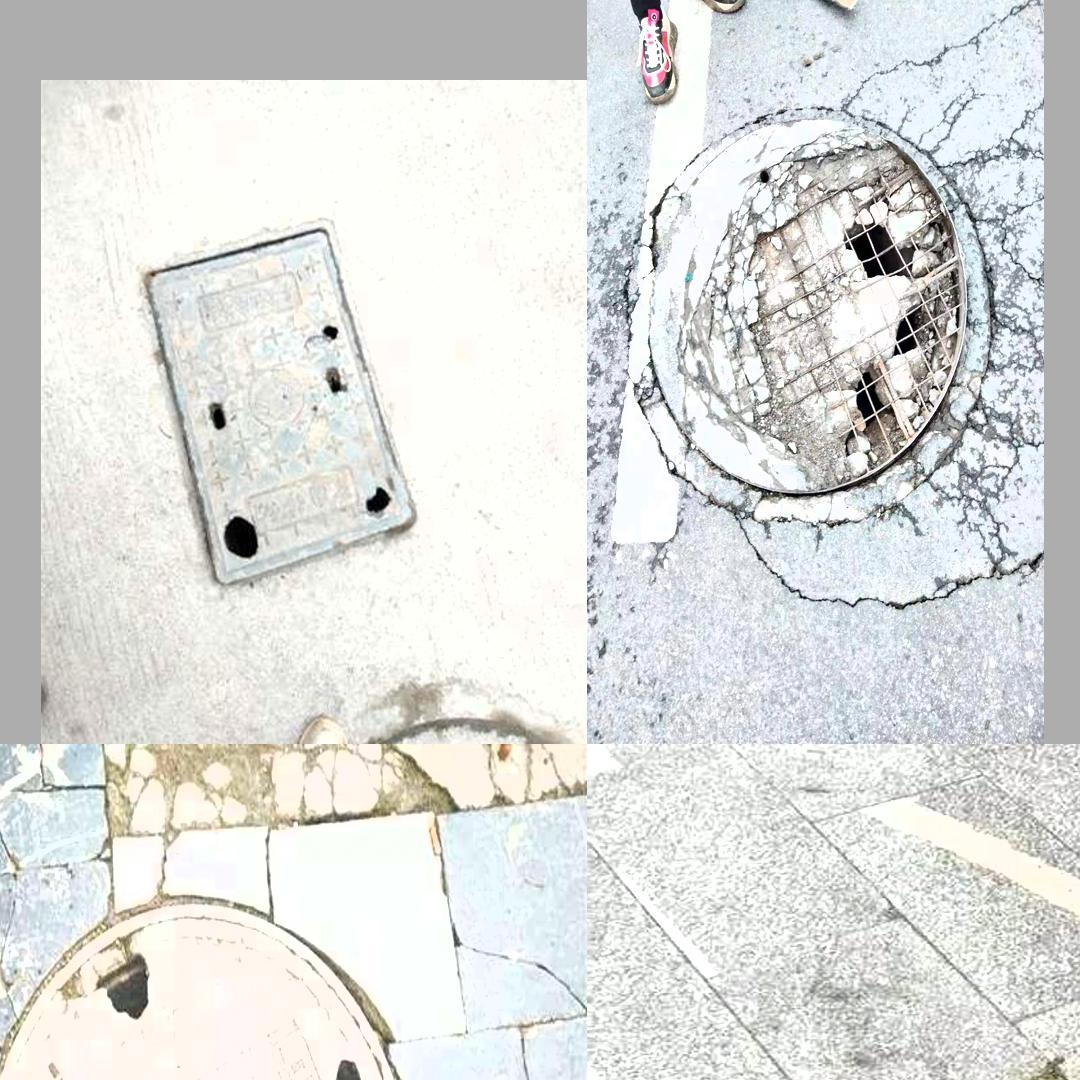broke: (630, 108, 969, 506), (134, 217, 422, 589), (0, 904, 416, 1080), (822, 1058, 1080, 1080)
